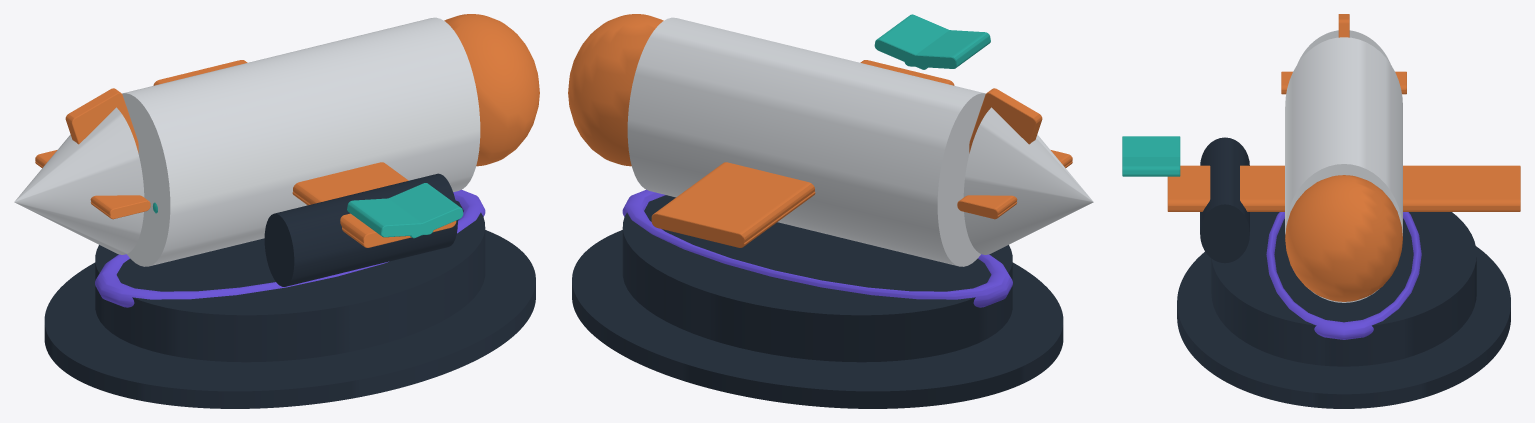
Rendered from 0348_航空航天图鉴_UH-60通用直升机.glb.
3 renders of one model, left to right at view 1: azimuth 30°, elevation 25°; view 2: azimuth 150°, elevation 25°; view 3: azimuth 270°, elevation 25°, orthographic. The views are drawn at different scales.
Parts seen in each view (by area): view 1: card_0348; view 2: card_0348; view 3: card_0348.
Boxes of the visible parts, x1,y1,x2,y2 form: card_0348: (14,14,539,408); card_0348: (568,14,1093,408); card_0348: (1122,14,1520,408).
Bounding box in the file's own units: 2 × 1 × 1.6.
